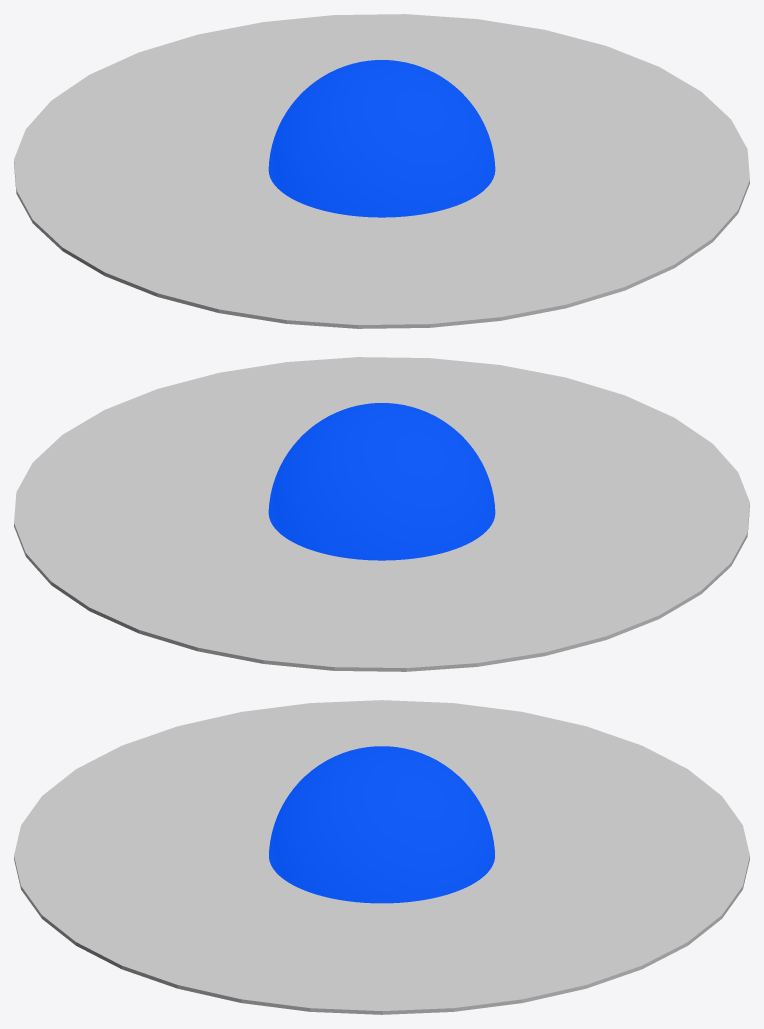
File: blackhole.glb
The picture shows the model from 3 angles, top to bottom: view 1: azimuth 30°, elevation 25°; view 2: azimuth 150°, elevation 25°; view 3: azimuth 270°, elevation 25°; orthographic projection.
Parts seen in each view (by area): view 1: Circle, Icosphere; view 2: Circle, Icosphere; view 3: Circle, Icosphere.
Boxes of the visible parts, x1,y1,x2,y2 form: Circle: (14,14,749,328); Icosphere: (268,60,495,217); Circle: (14,357,749,671); Icosphere: (268,403,495,560); Circle: (14,700,749,1014); Icosphere: (269,746,494,903).
Bounding box in the file's own units: 13.04 × 4.01 × 13.04.
